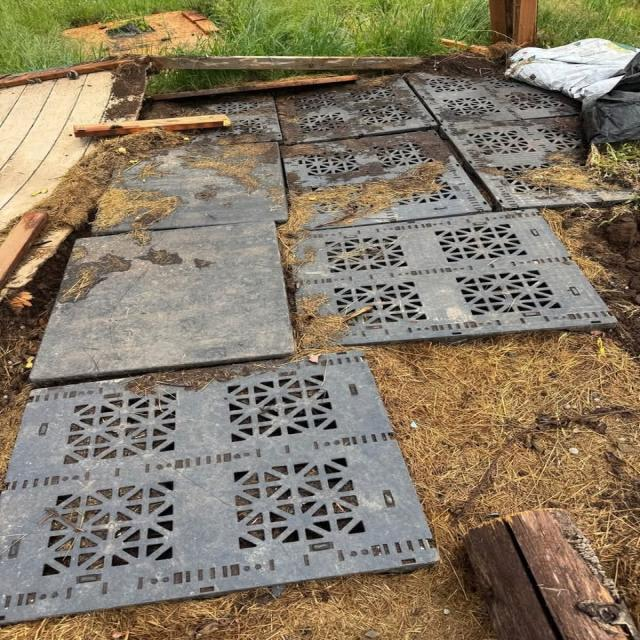non-igps: (0, 348, 445, 630), (284, 207, 621, 352), (126, 70, 584, 154), (247, 128, 495, 233), (436, 115, 640, 213)
